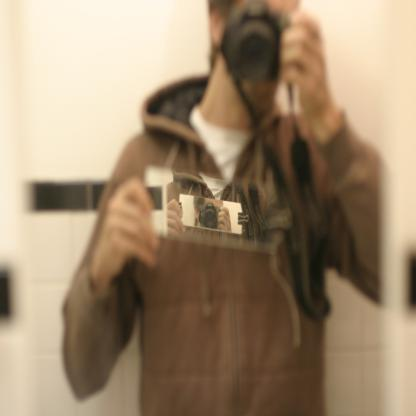Camera: (234, 14, 313, 91)
